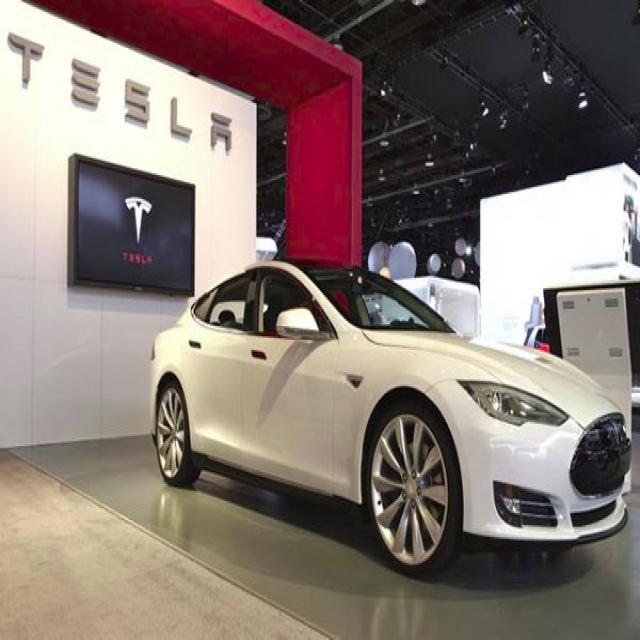car: (138, 254, 632, 580)
